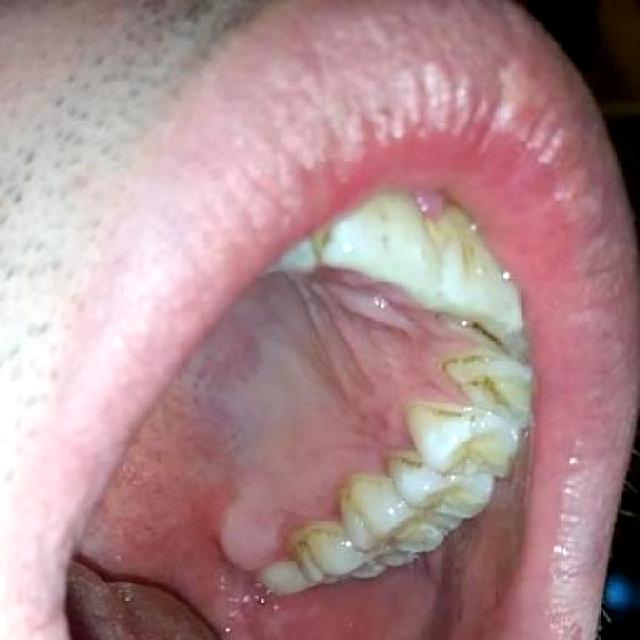Plaque: (272, 505, 335, 562)
